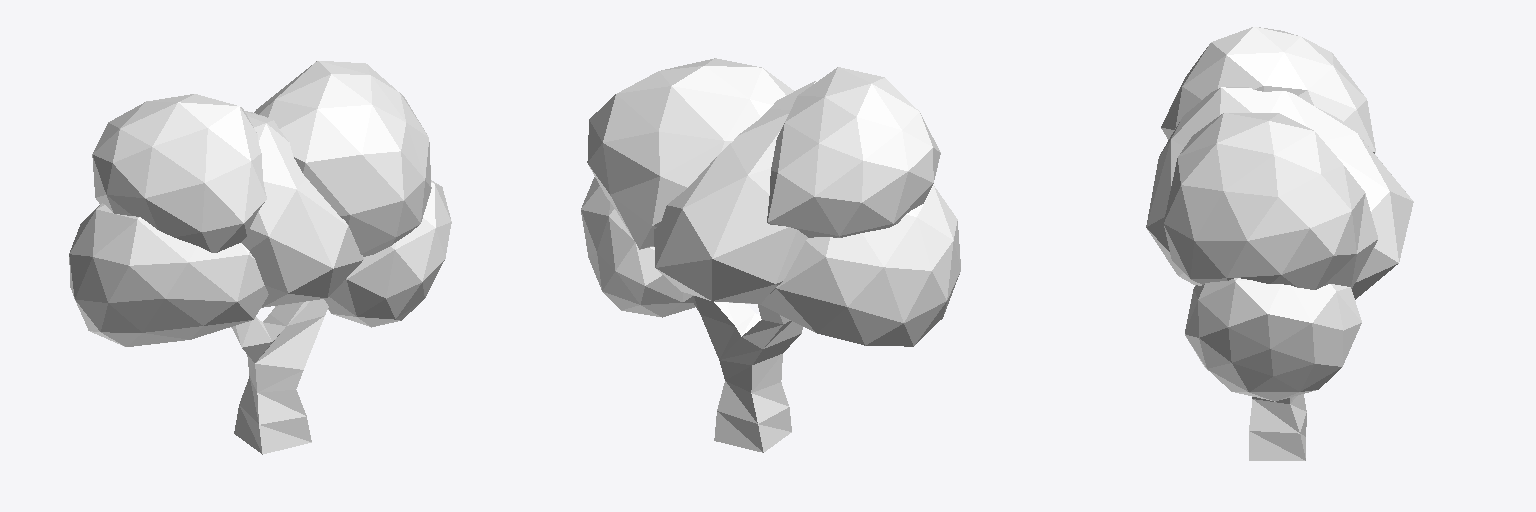
File: OakTree1.obj
3 renders of one model, left to right at view 1: azimuth 30°, elevation 25°; view 2: azimuth 150°, elevation 25°; view 3: azimuth 270°, elevation 25°, orthographic.
Bounding box in the file's own units: 976 × 959 × 628.